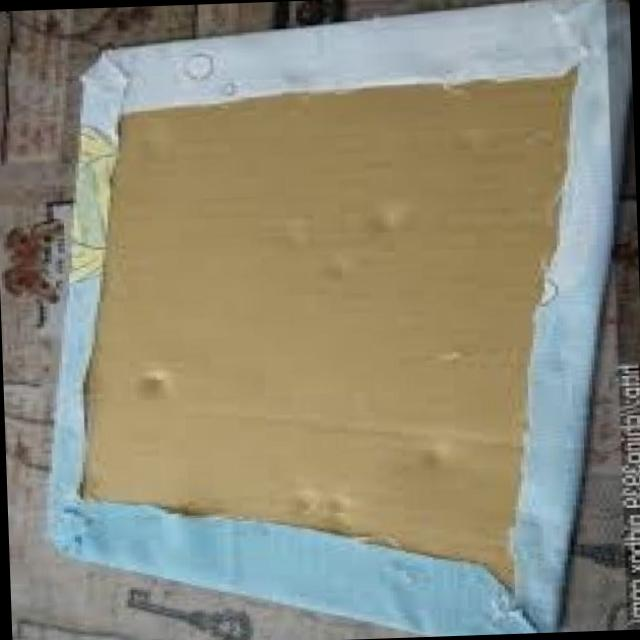cardboard paper: (82, 78, 567, 580)
